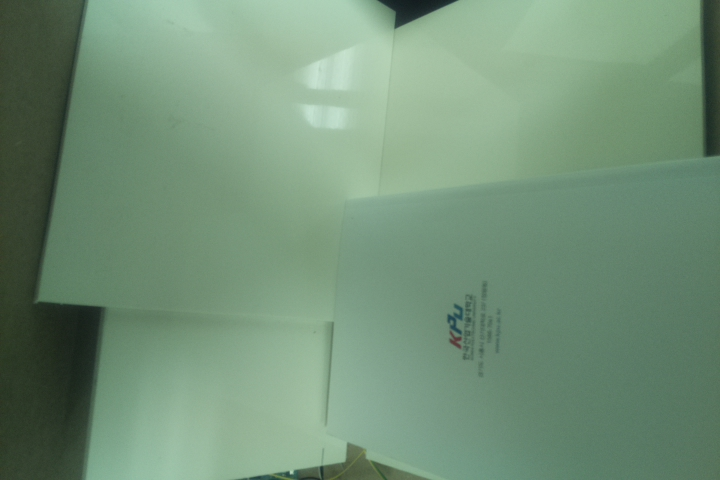book: (322, 151, 720, 480)
